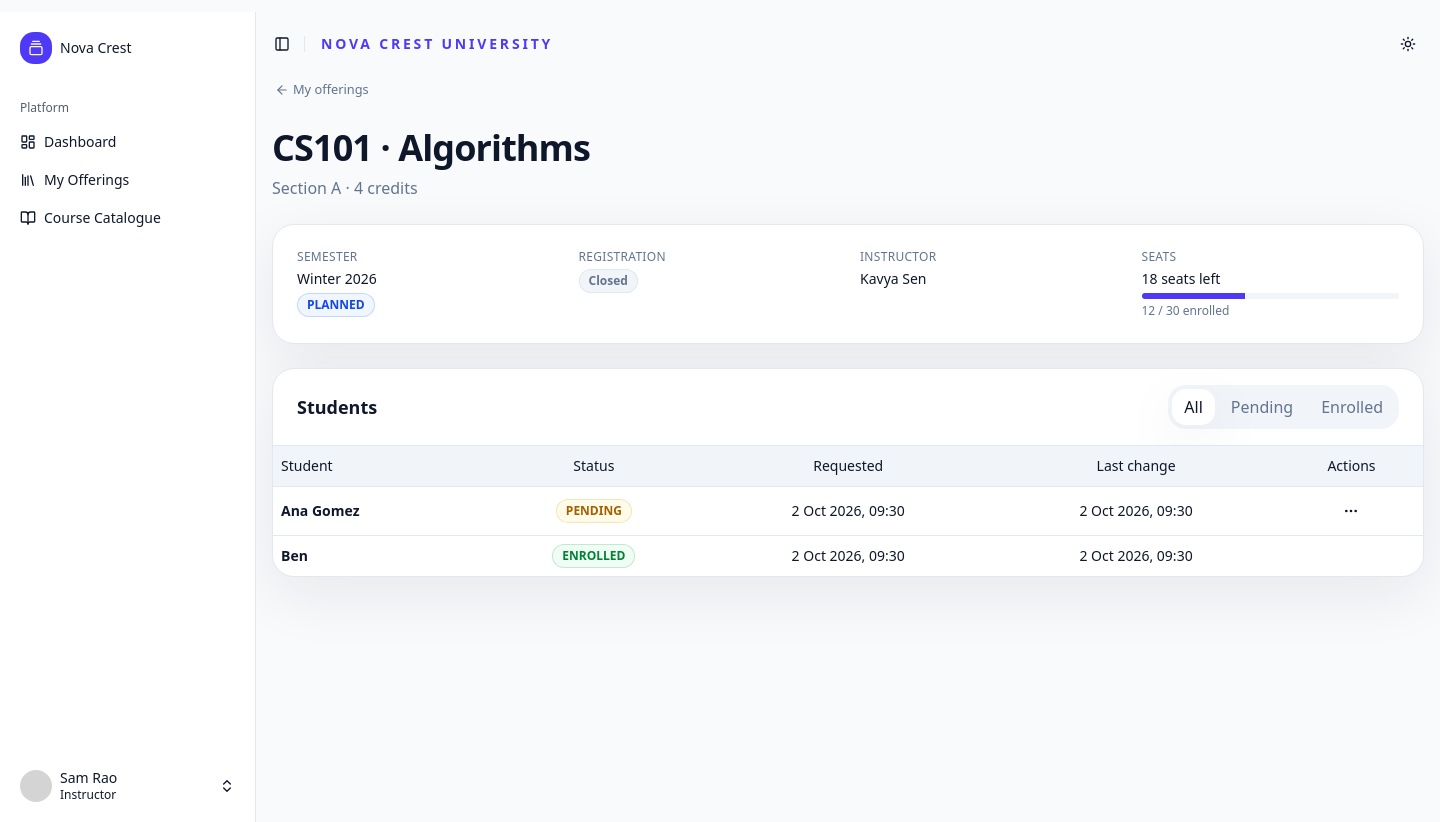
Scenario: OfferingDetail › filters the roster by status tab
Expected: the text "Ben" is shown, [273,535,484,576]
Click the tab "Pending": (1262, 407) [1219,389,1305,425]
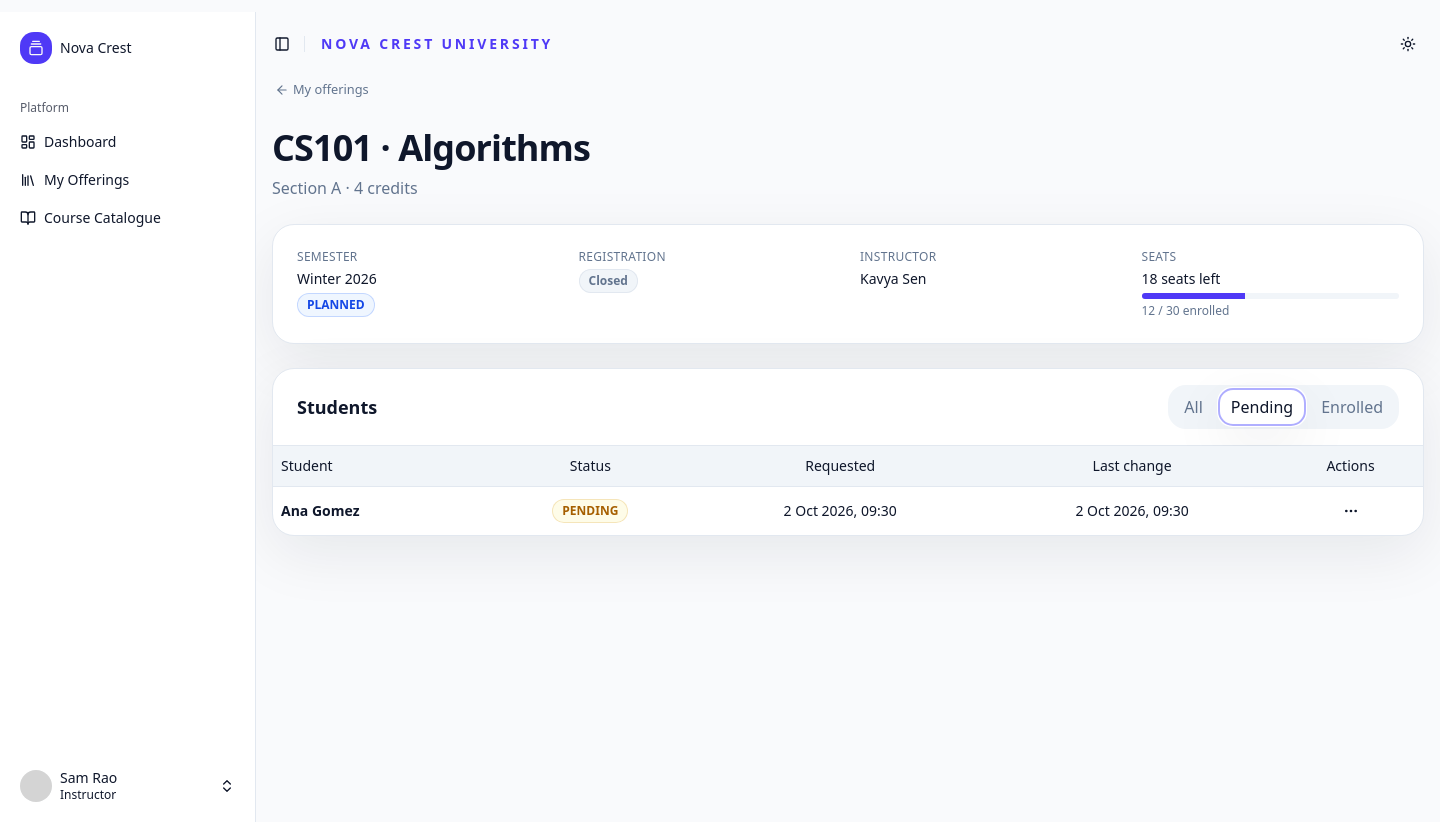
Expected: the text "Ben" is gone
